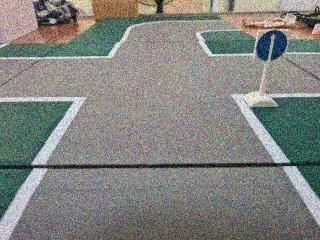straight: (253, 28, 290, 65)
